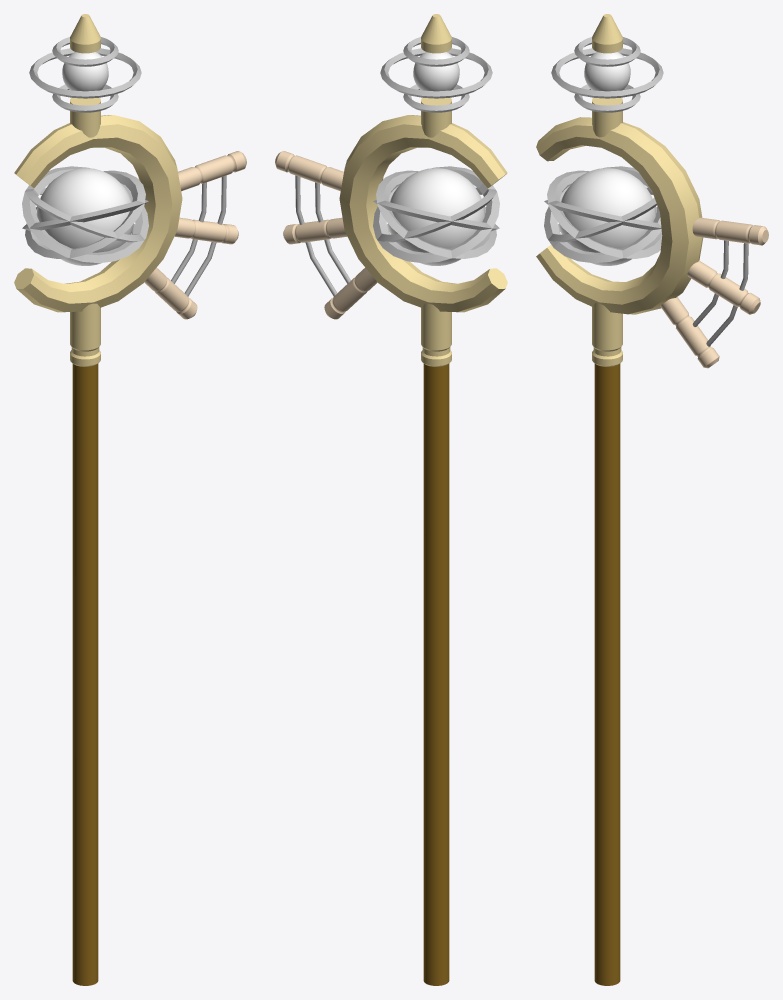
Rendered from tue.fbx.
The picture shows the model from 3 angles, left to right: view 1: azimuth 30°, elevation 25°; view 2: azimuth 150°, elevation 25°; view 3: azimuth 330°, elevation 25°; orthographic projection.
Visible parts, largest first — view 1: pCylinder1, sweep2, sweep5, pCylinder5, pSphere1, pCylinder2, sweep10, pSphere2, pCylinder8, pCylinder7, sweep9, sweep8; view 2: pCylinder1, sweep2, sweep5, pCylinder5, pSphere1, pCylinder2, sweep10, pSphere2, pCylinder8, pCylinder7, sweep9, sweep8; view 3: pCylinder1, sweep2, pCylinder5, sweep5, pSphere1, pCylinder2, sweep10, pSphere2, pCylinder8, pCylinder7, sweep9, sweep8.
Part boxes in pixels (x1,y1,x2,y2): pCylinder1: (72, 363, 98, 985); sweep2: (14, 115, 182, 312); sweep5: (22, 166, 148, 263); pCylinder5: (144, 151, 246, 319); pSphere1: (36, 168, 133, 265); pCylinder2: (70, 303, 100, 366); sweep10: (29, 48, 141, 98); pSphere2: (62, 52, 108, 91); pCylinder8: (70, 14, 100, 53); pCylinder7: (70, 97, 100, 137); sweep9: (52, 37, 118, 66); sweep8: (52, 84, 118, 112); pCylinder1: (423, 363, 449, 985); sweep2: (339, 115, 507, 312); sweep5: (373, 166, 499, 263); pCylinder5: (275, 151, 377, 319); pSphere1: (388, 168, 485, 265); pCylinder2: (421, 303, 451, 366); sweep10: (380, 48, 492, 98); pSphere2: (413, 52, 459, 91); pCylinder8: (421, 14, 451, 53); pCylinder7: (421, 97, 451, 137); sweep9: (403, 37, 469, 66); sweep8: (403, 84, 469, 112); pCylinder1: (594, 363, 620, 985); sweep2: (536, 117, 703, 314); pCylinder5: (660, 217, 768, 368); sweep5: (544, 166, 662, 263); pSphere1: (559, 168, 656, 265); pCylinder2: (592, 303, 622, 366); sweep10: (551, 48, 663, 98); pSphere2: (584, 52, 630, 91); pCylinder8: (592, 14, 622, 53); pCylinder7: (592, 97, 622, 137); sweep9: (574, 37, 640, 66); sweep8: (574, 84, 640, 112).
Size of the model in its own units: 3.6 by 14.58 by 1.78.
